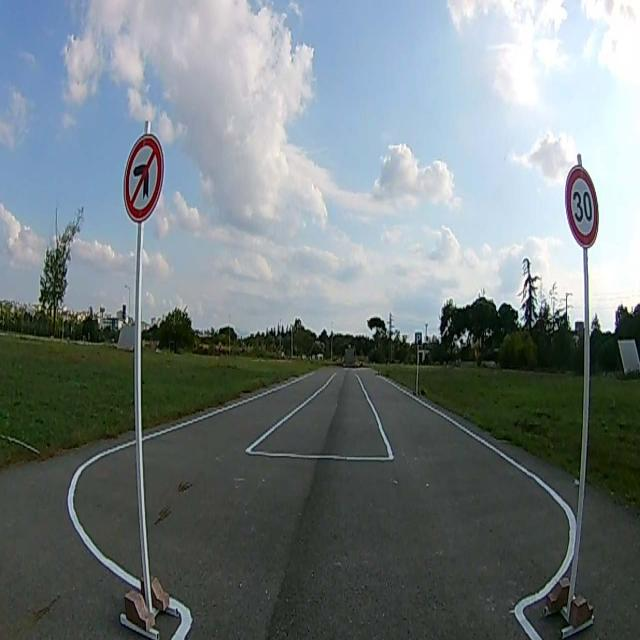30: (566, 167, 599, 245)
soladonulmez: (123, 136, 163, 217)
